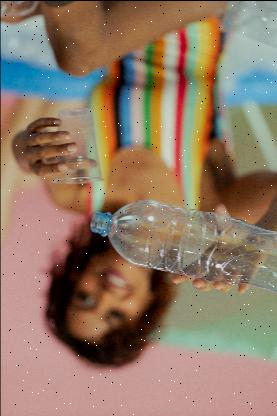Plastic Bottle: (91, 198, 277, 292)
